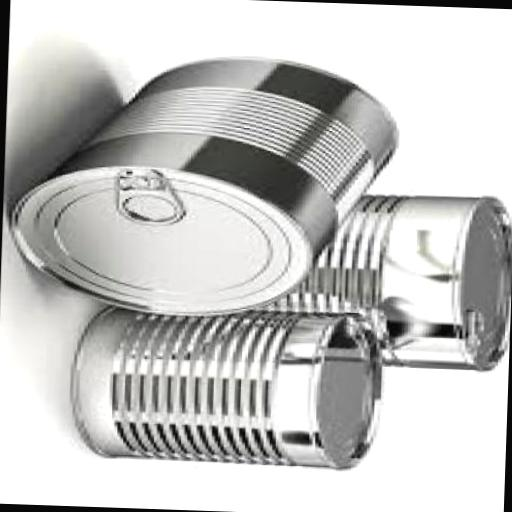metal: (8, 53, 406, 326), (66, 302, 385, 472), (227, 190, 512, 376)
